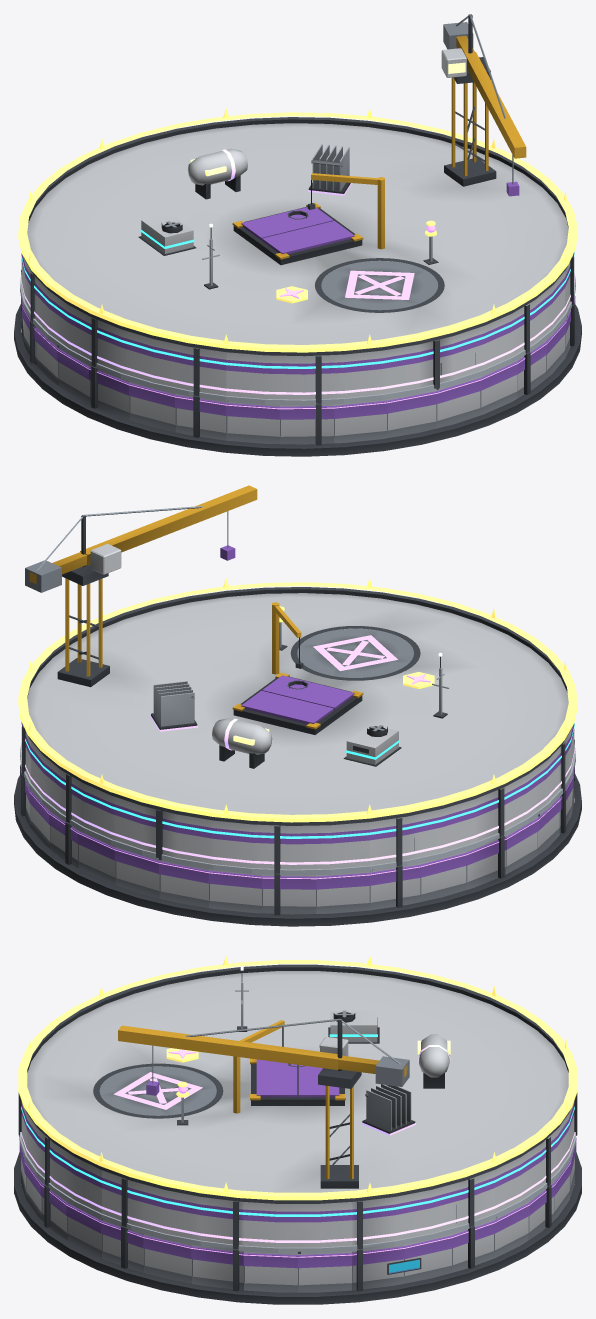
Rendered from storehouse_m.glb.
3 views of the same model, one above another, from view 1: azimuth 30°, elevation 25°; view 2: azimuth 150°, elevation 25°; view 3: azimuth 270°, elevation 25° (orthographic).
Visible parts, largest first — view 1: Roof, L5, Base, L4, Upper_21, Wall_21, Upper_20, Upper_22, Upper_23, Wall_20, Upper_19, Wall_22 (+19 smaller); view 2: Roof, L5, Base, L4, Upper_10, Wall_10, Upper_11, Upper_09, Wall_11, Upper_08, Upper_12, Wall_09 (+19 smaller); view 3: Roof, L5, Base, L4, Upper_00, Upper_31, Wall_00, Upper_01, Upper_30, Wall_31, Wall_30, Upper_02 (+24 smaller).
Part boxes in pixels (x1=…): Roof: x1=24, y1=14, x2=568, y2=356; L5: x1=18, y1=108, x2=577, y2=352; Base: x1=14, y1=304, x2=581, y2=456; L4: x1=187, y1=144, x2=351, y2=199; Upper_21: x1=280, y1=355, x2=333, y2=403; Wall_21: x1=279, y1=403, x2=334, y2=445; Upper_20: x1=226, y1=352, x2=279, y2=399; Upper_22: x1=334, y1=350, x2=386, y2=398; Upper_23: x1=386, y1=340, x2=437, y2=393; Wall_20: x1=226, y1=401, x2=279, y2=443; Upper_19: x1=176, y1=344, x2=226, y2=396; Wall_22: x1=334, y1=399, x2=387, y2=443; Roof: x1=25, y1=485, x2=571, y2=825; L5: x1=18, y1=578, x2=577, y2=822; Base: x1=14, y1=774, x2=581, y2=926; L4: x1=150, y1=681, x2=272, y2=768; Upper_10: x1=262, y1=825, x2=315, y2=873; Wall_10: x1=261, y1=873, x2=316, y2=915; Upper_11: x1=316, y1=822, x2=369, y2=869; Upper_09: x1=209, y1=820, x2=261, y2=868; Wall_11: x1=316, y1=871, x2=369, y2=913; Upper_08: x1=158, y1=810, x2=209, y2=863; Upper_12: x1=369, y1=814, x2=419, y2=865; Wall_09: x1=208, y1=869, x2=261, y2=913; Roof: x1=25, y1=964, x2=570, y2=1203; L5: x1=18, y1=955, x2=577, y2=1200; Base: x1=14, y1=1152, x2=581, y2=1304; L4: x1=361, y1=1034, x2=450, y2=1135; Upper_00: x1=298, y1=1202, x2=351, y2=1247; Upper_31: x1=244, y1=1202, x2=297, y2=1247; Wall_00: x1=298, y1=1251, x2=352, y2=1292; Upper_01: x1=352, y1=1195, x2=403, y2=1249; Upper_30: x1=192, y1=1195, x2=243, y2=1249; Wall_31: x1=243, y1=1251, x2=297, y2=1292; Wall_30: x1=191, y1=1245, x2=243, y2=1291; Upper_02: x1=403, y1=1184, x2=451, y2=1238.
Size of the model in its own units: 16.26 by 8.23 by 16.26.
